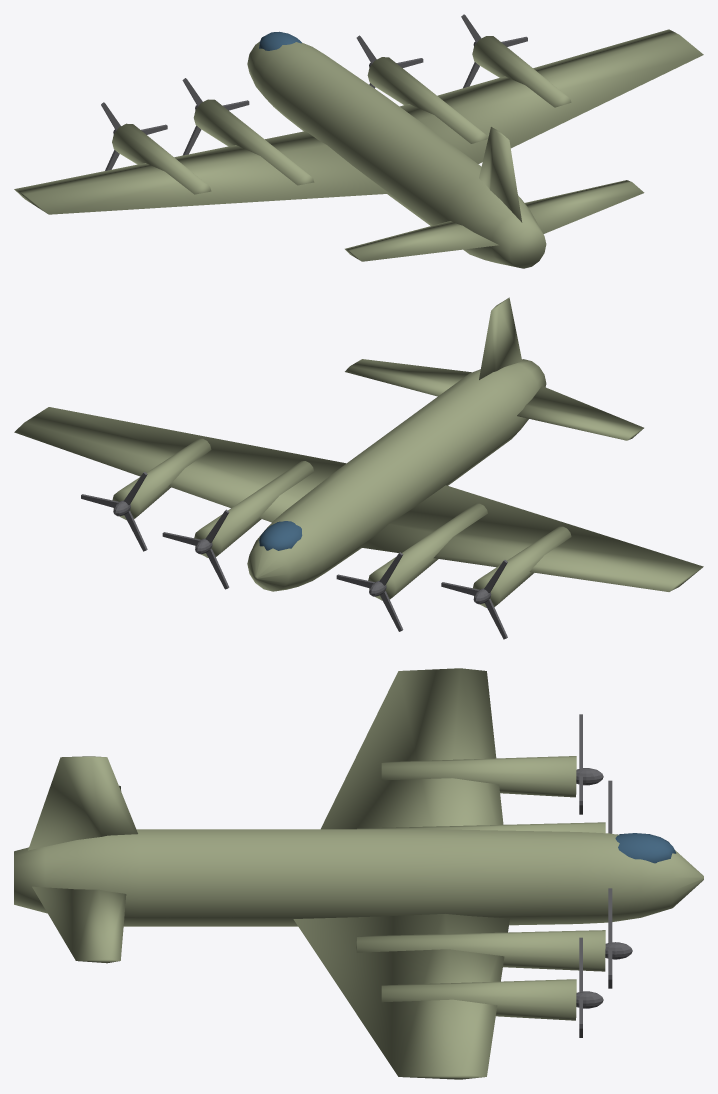
3 views of the same model, one above another, from view 1: azimuth 30°, elevation 25°; view 2: azimuth 150°, elevation 25°; view 3: azimuth 270°, elevation 25° (orthographic). The views are drawn at different scales.
Visible parts, largest first — view 1: Body, Detail, Canopy; view 2: Body, Detail, Canopy; view 3: Body, Detail, Canopy.
Part boxes in pixels (x1=…): Body: x1=14, y1=29, x2=703, y2=268; Detail: x1=101, y1=14, x2=527, y2=170; Canopy: x1=259, y1=31, x2=301, y2=50; Body: x1=14, y1=297, x2=703, y2=607; Detail: x1=81, y1=472, x2=507, y2=639; Canopy: x1=259, y1=521, x2=302, y2=550; Body: x1=14, y1=668, x2=703, y2=1079; Detail: x1=576, y1=714, x2=632, y2=1037; Canopy: x1=615, y1=833, x2=676, y2=863.
Bounding box in the file's own units: 3160 × 689 × 2270.
